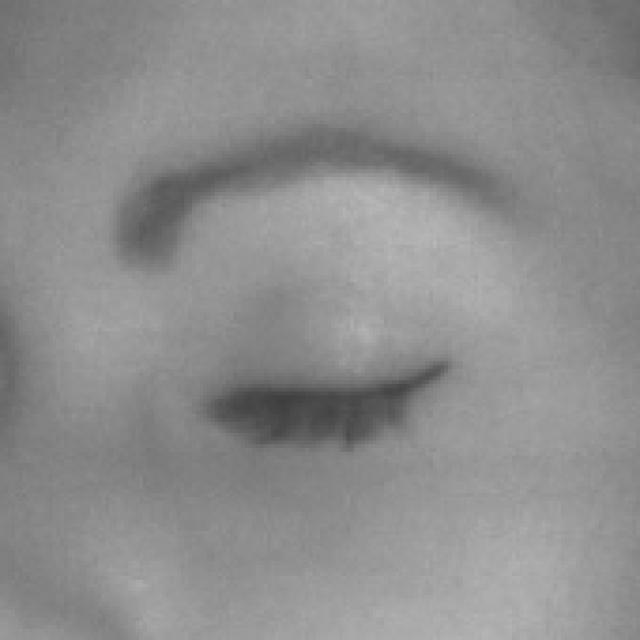Eyeclosed: (202, 291, 452, 520)
